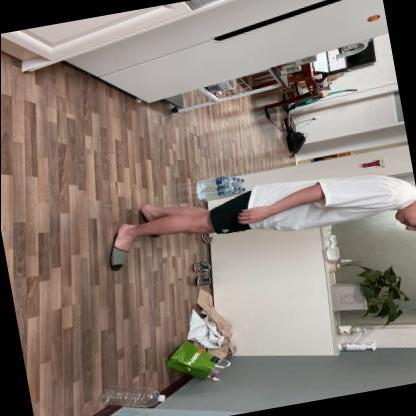no_safety-shoe: (92, 221, 140, 281)
